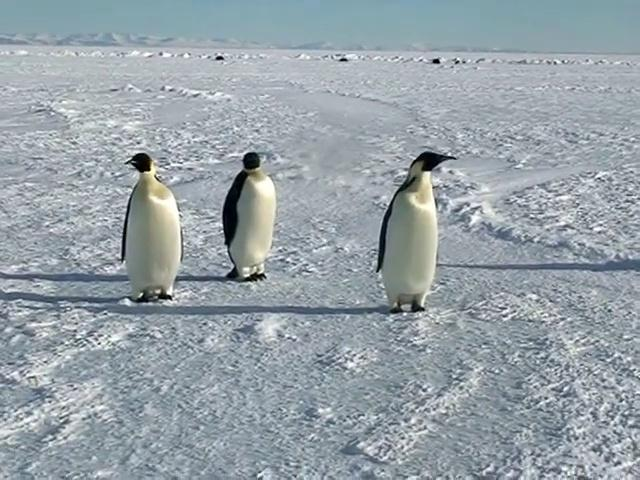animal: (377, 152, 455, 312)
